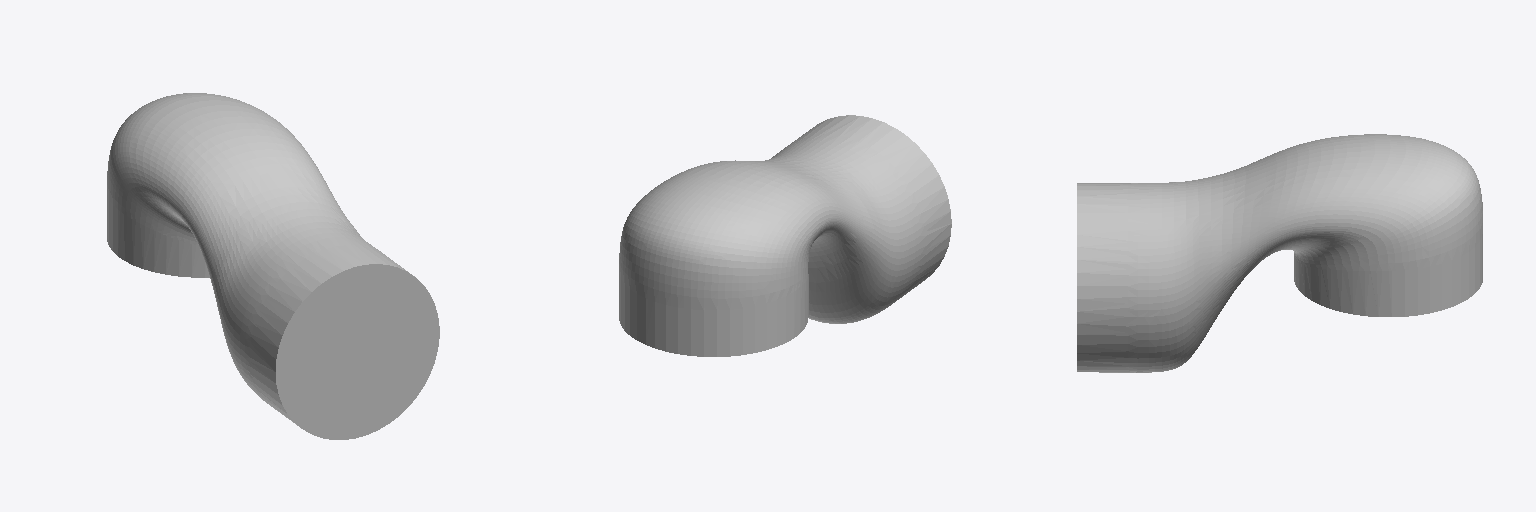
The model's file is processed_wrist_spherical_1.obj.
3 views of the same model, side by side, from view 1: azimuth 30°, elevation 25°; view 2: azimuth 150°, elevation 25°; view 3: azimuth 270°, elevation 25° (orthographic).
Parts seen in each view (by area): view 1: wrist_spherical_1; view 2: wrist_spherical_1; view 3: wrist_spherical_1.
Part boxes in pixels (x1,y1,x2,y2): wrist_spherical_1: (107,93,439,439); wrist_spherical_1: (619,115,951,356); wrist_spherical_1: (1077,134,1482,372).
Size of the model in its own units: 0.063 by 0.0791 by 0.1351.